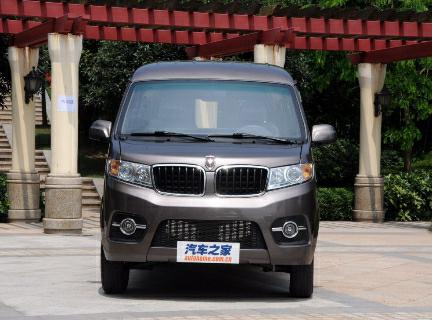金杯-小海狮X30: (93, 56, 325, 304)
